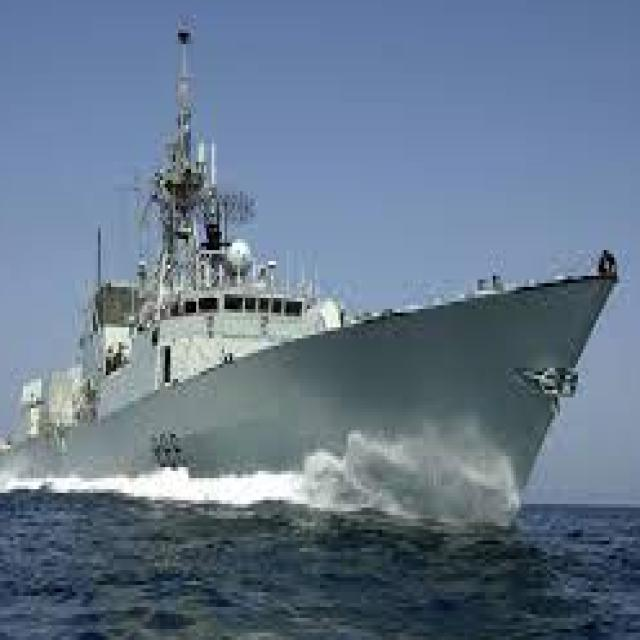navalvessels: (0, 18, 627, 537)
